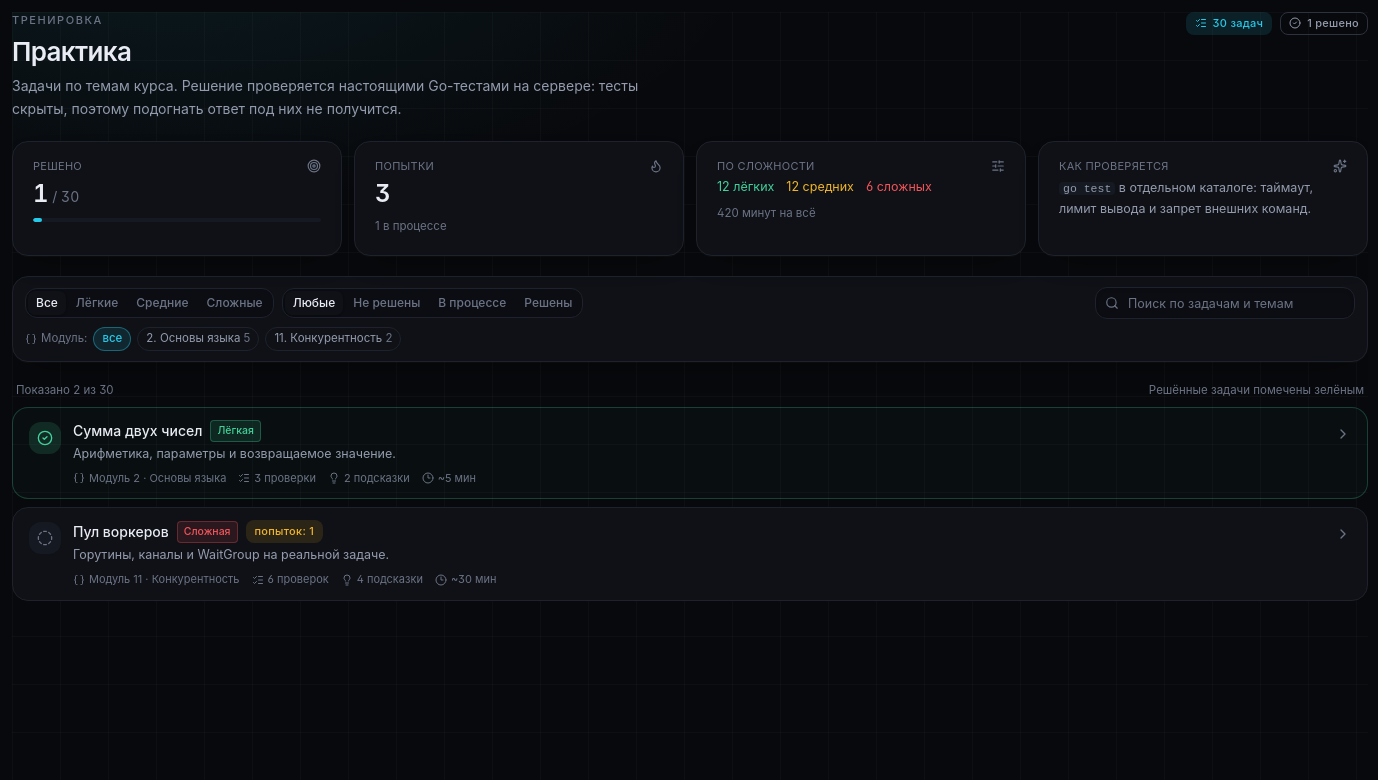
Test: PracticePage › ищет по названию и показывает пустое состояние
In the field labelled "Поиск по задачам": point(1225, 303) [1095,287,1355,319], type "канал"
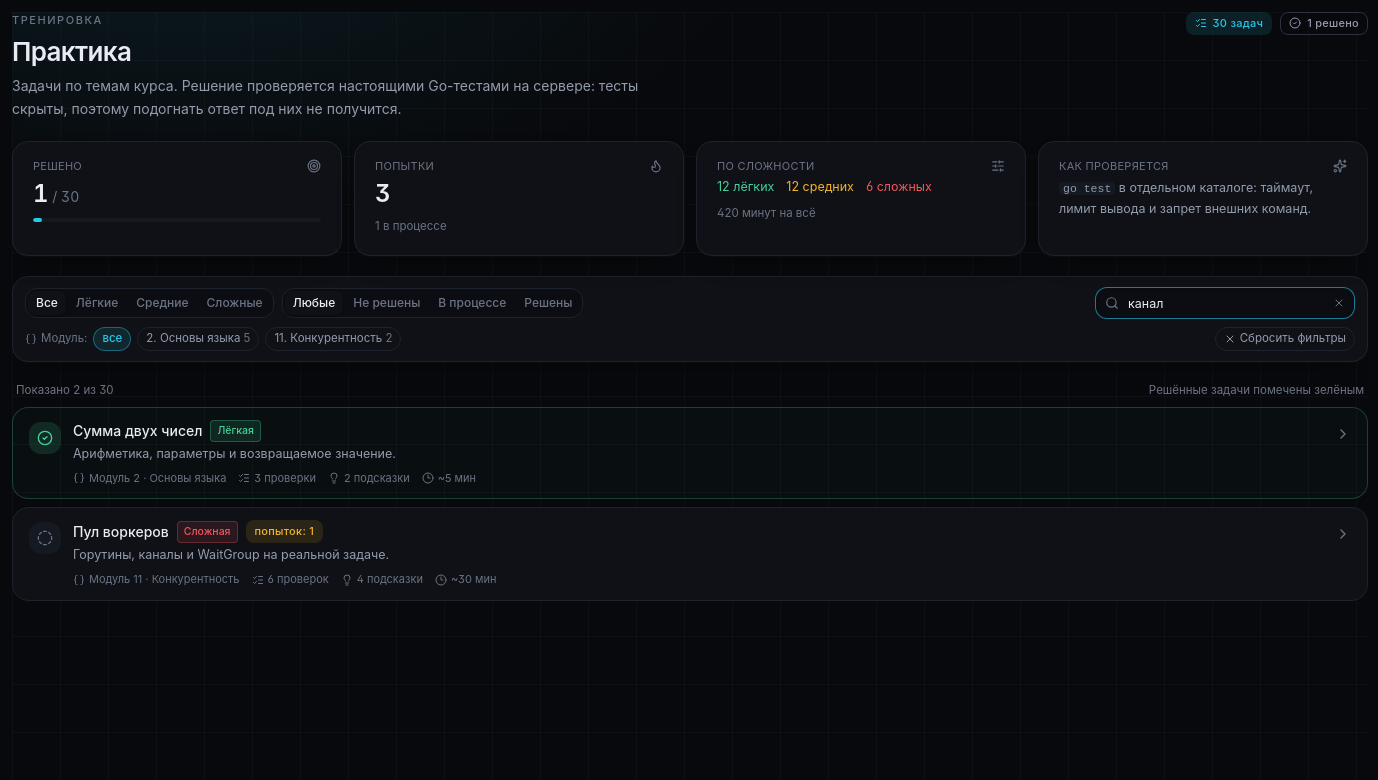
Сбрасываем фильтры — поиск очищается.
Click the button "Сбросить фильтры": point(1285, 339) [1215,327,1355,351]
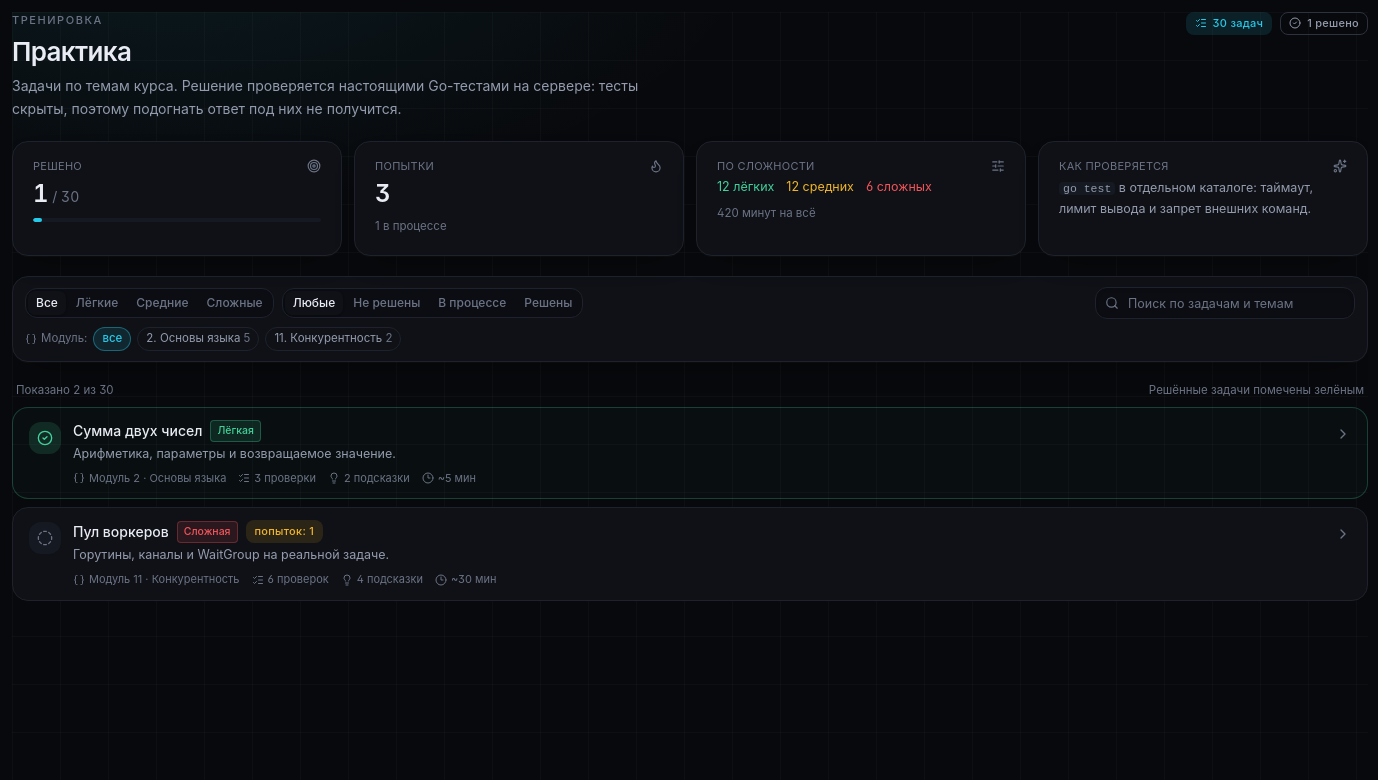
Now the field labelled "Поиск по задачам" is empty, box [1095,287,1355,319]
